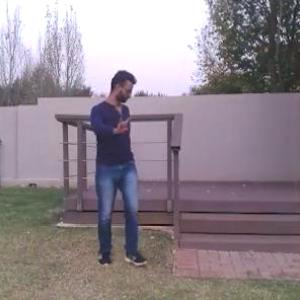takeoff-hand: (110, 109, 137, 139)
